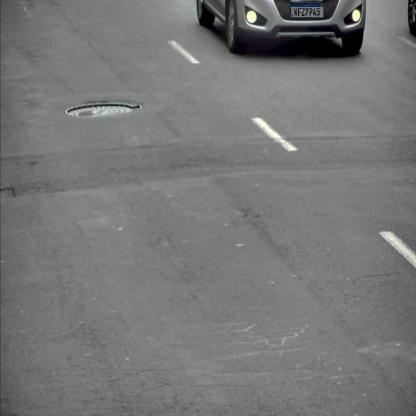PlacaM: (291, 3, 324, 18)
